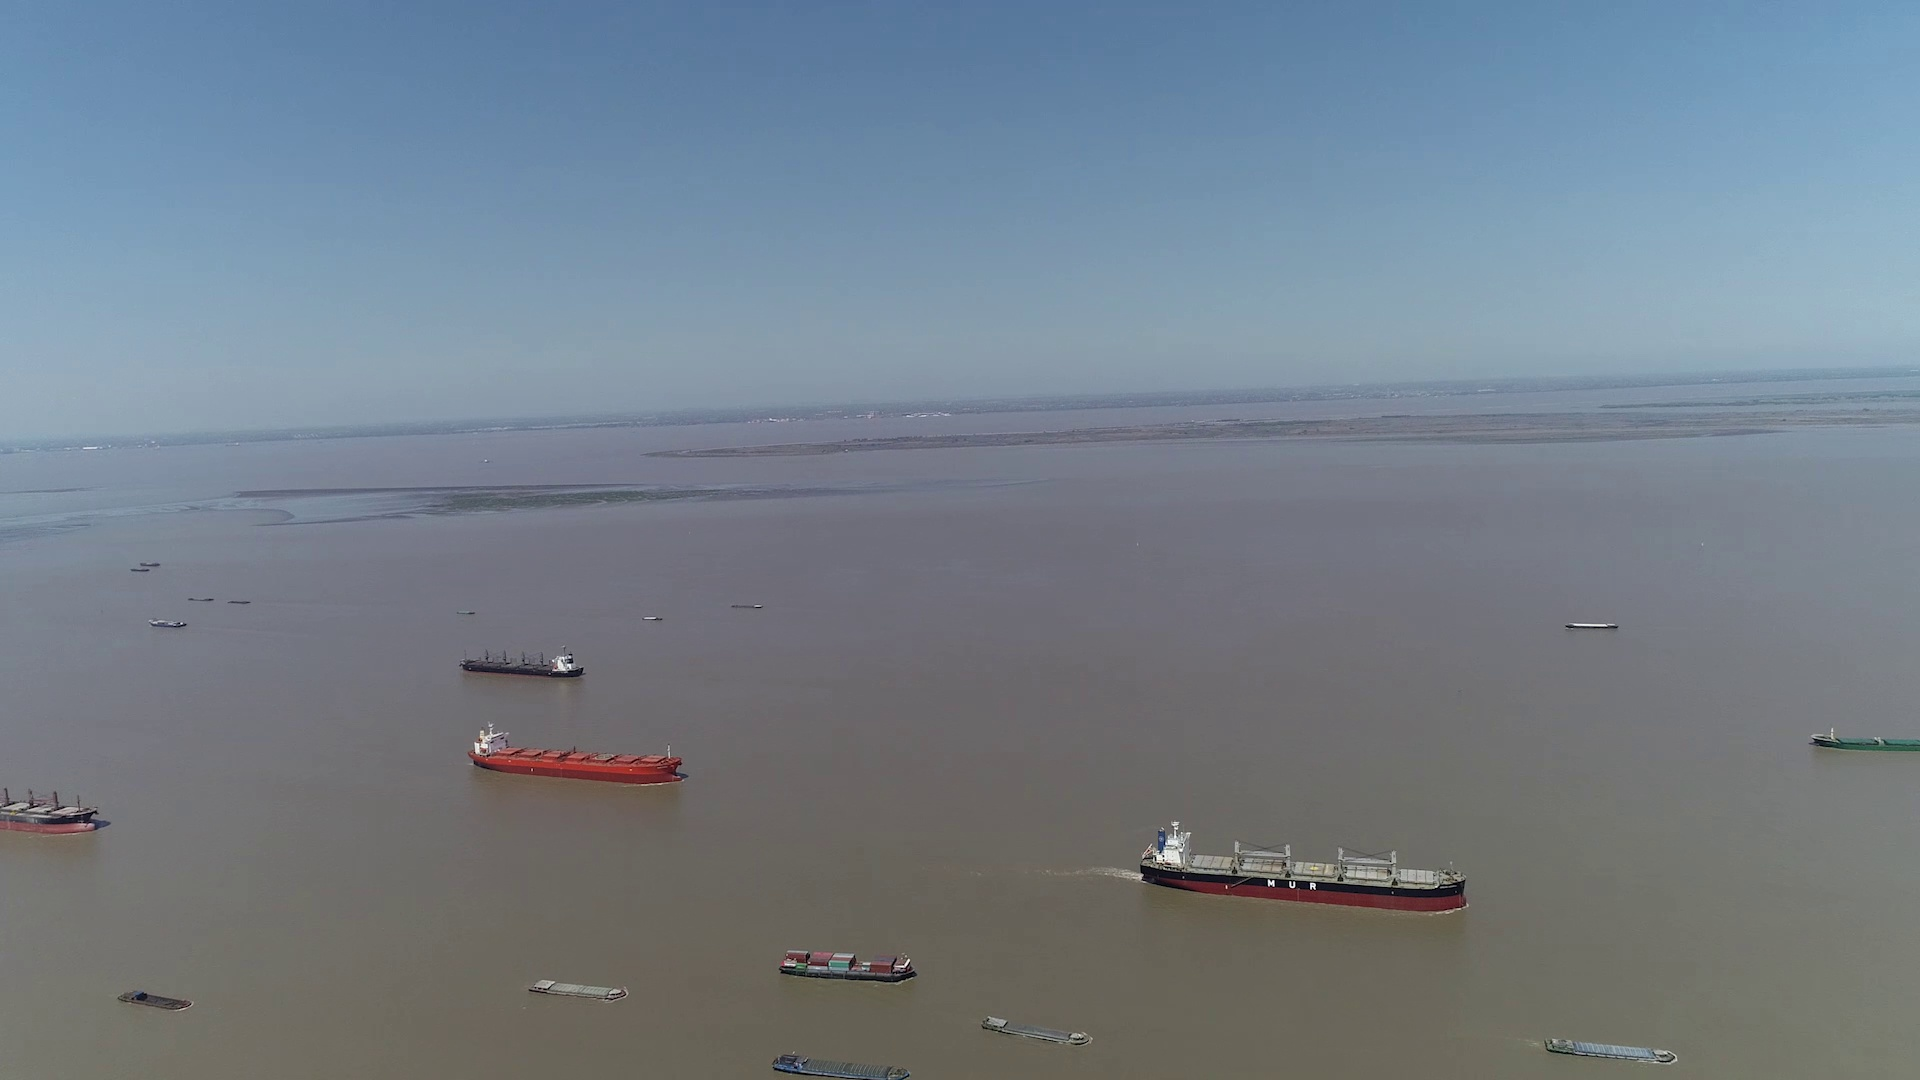ship: (1139, 822, 1469, 913), (468, 721, 683, 785), (0, 771, 105, 835), (781, 947, 919, 982), (1543, 1036, 1679, 1064), (769, 1054, 910, 1080), (460, 647, 583, 678), (980, 1018, 1091, 1046), (1812, 728, 1920, 752), (527, 978, 629, 1002), (117, 989, 193, 1011), (1568, 622, 1615, 632), (148, 618, 187, 629)
